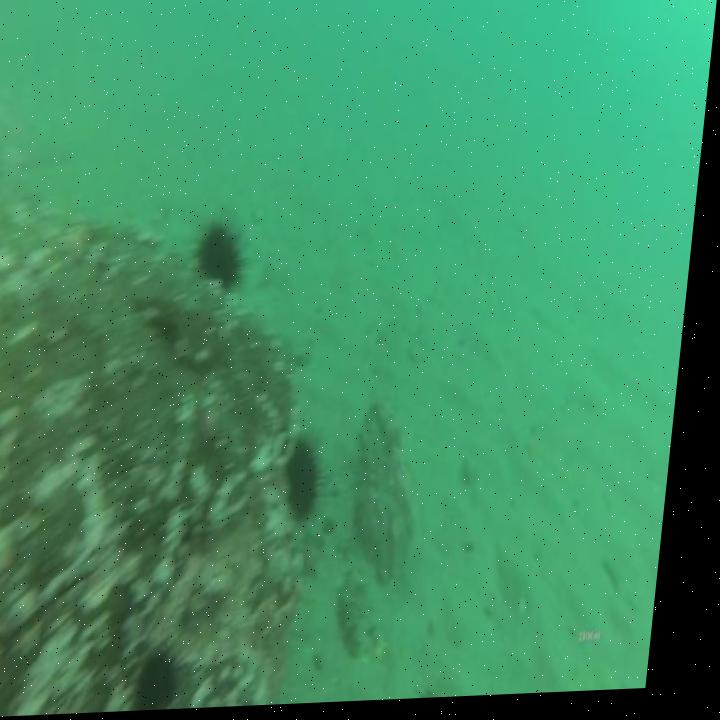echinus: (290, 438, 337, 529), (146, 640, 198, 713), (198, 225, 252, 293)
